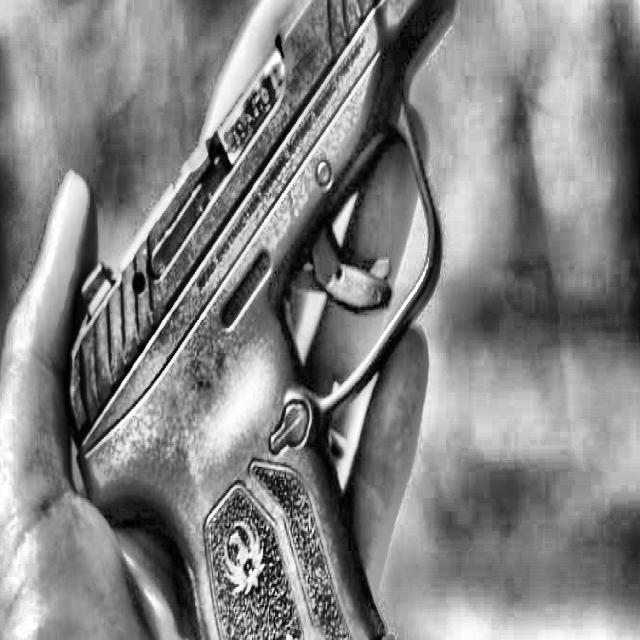Ruger: (63, 0, 457, 640)
